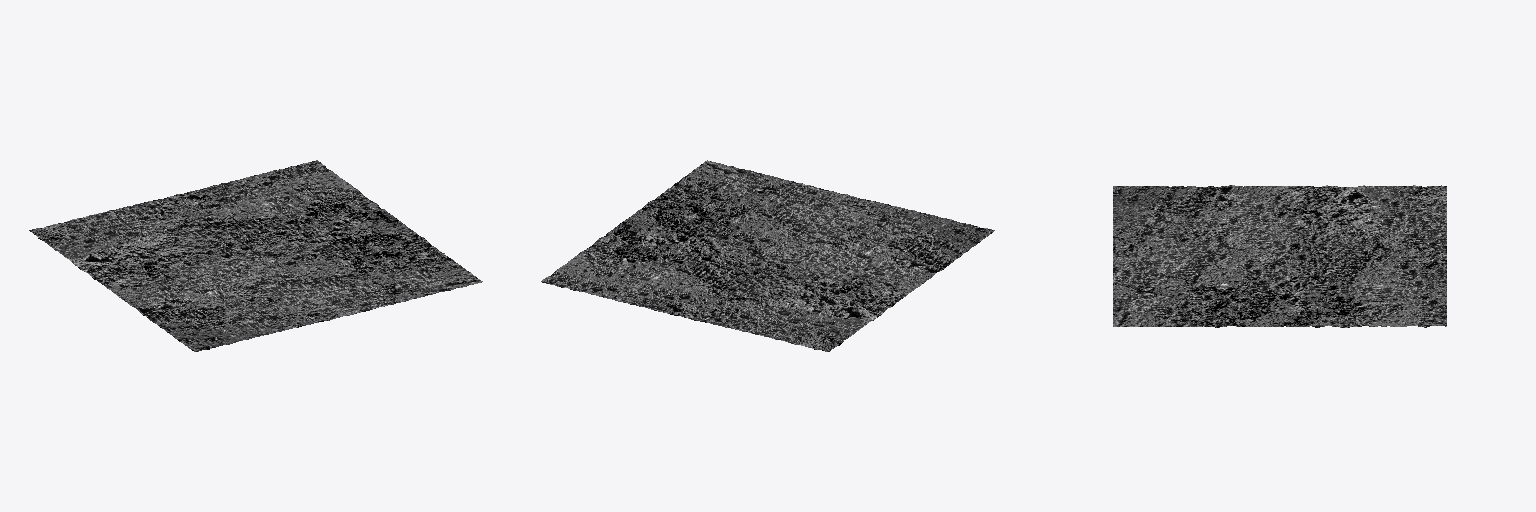
The picture shows the model from 3 angles: view 1: azimuth 30°, elevation 25°; view 2: azimuth 150°, elevation 25°; view 3: azimuth 270°, elevation 25°; orthographic projection.
Visible parts, largest first — view 1: dirt_Plane.001; view 2: dirt_Plane.001; view 3: dirt_Plane.001.
Boxes of the visible parts, x1=… form: dirt_Plane.001: x1=29, y1=160, x2=482, y2=351; dirt_Plane.001: x1=541, y1=160, x2=994, y2=351; dirt_Plane.001: x1=1113, y1=185, x2=1446, y2=327.
Size of the model in its own units: 2 by 0.0234 by 2.
Materials: 1 (1 with a texture image).